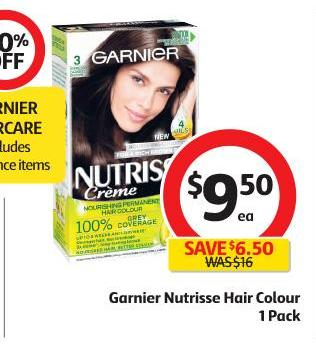description_block: (102, 285, 306, 334)
price_main: (176, 154, 284, 239)
product_image_block: (45, 13, 185, 270)
promo_text_block: (165, 239, 294, 274)
